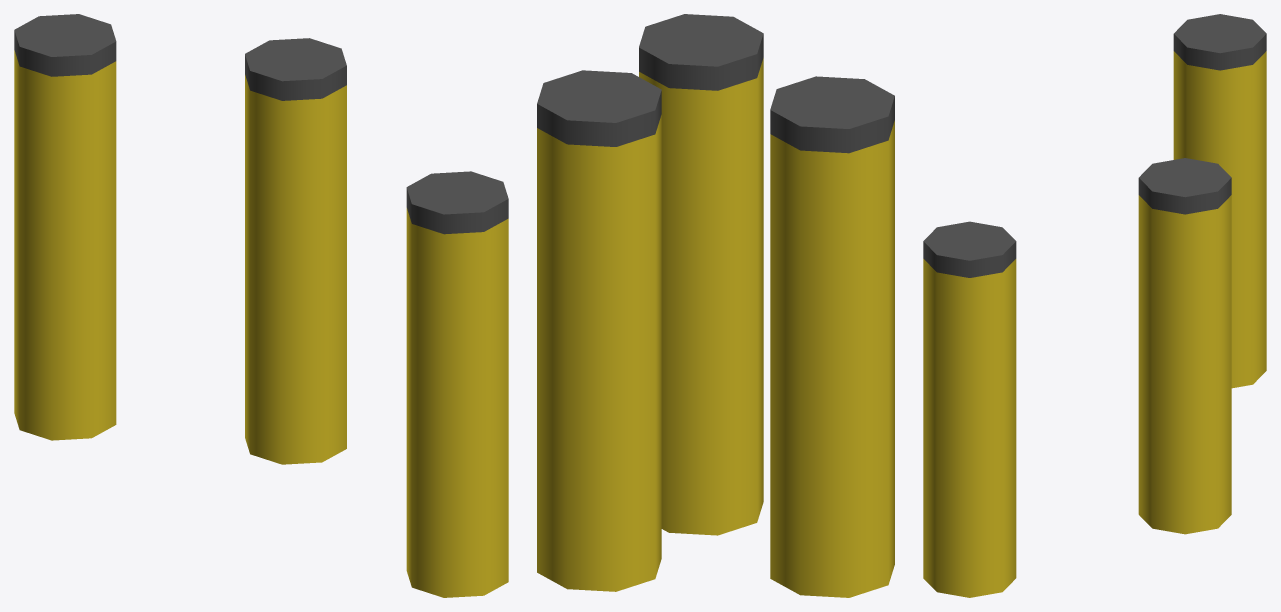
File: цилинды (2).fbx
3 renders of one model, left to right at view 1: azimuth 30°, elevation 25°; view 2: azimuth 150°, elevation 25°; view 3: azimuth 270°, elevation 25°, orthographic. The views are drawn at different scales.
Visible parts, largest first — view 1: Cylinder.1, Cylinder.3, Cylinder.2; view 2: Cylinder.2, Cylinder.1, Cylinder.3; view 3: Cylinder.2, Cylinder.3, Cylinder.1.
Boxes of the visible parts, left/top/right/bottom form: Cylinder.1: left=14, top=14, right=116, bottom=440; Cylinder.3: left=406, top=171, right=508, bottom=597; Cylinder.2: left=245, top=38, right=346, bottom=464; Cylinder.2: left=537, top=70, right=661, bottom=591; Cylinder.1: left=770, top=76, right=894, bottom=597; Cylinder.3: left=639, top=14, right=763, bottom=535; Cylinder.2: left=1138, top=158, right=1231, bottom=534; Cylinder.3: left=923, top=221, right=1016, bottom=597; Cylinder.1: left=1173, top=14, right=1266, bottom=388.
Bounding box in the file's own units: 199 × 277 × 197.
